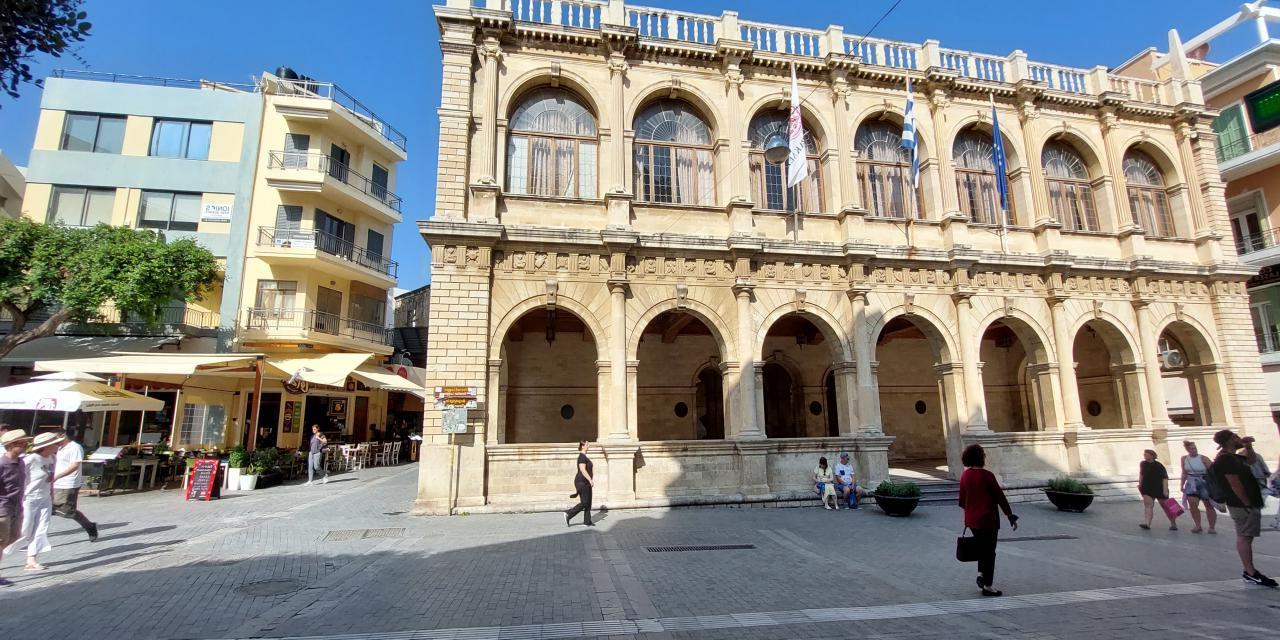Loggia: (407, 1, 1280, 525)
